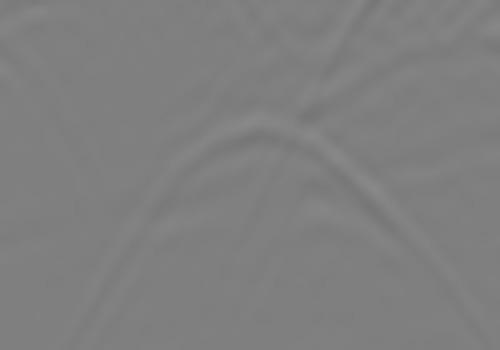Hyperbola: (57, 82, 481, 345)
